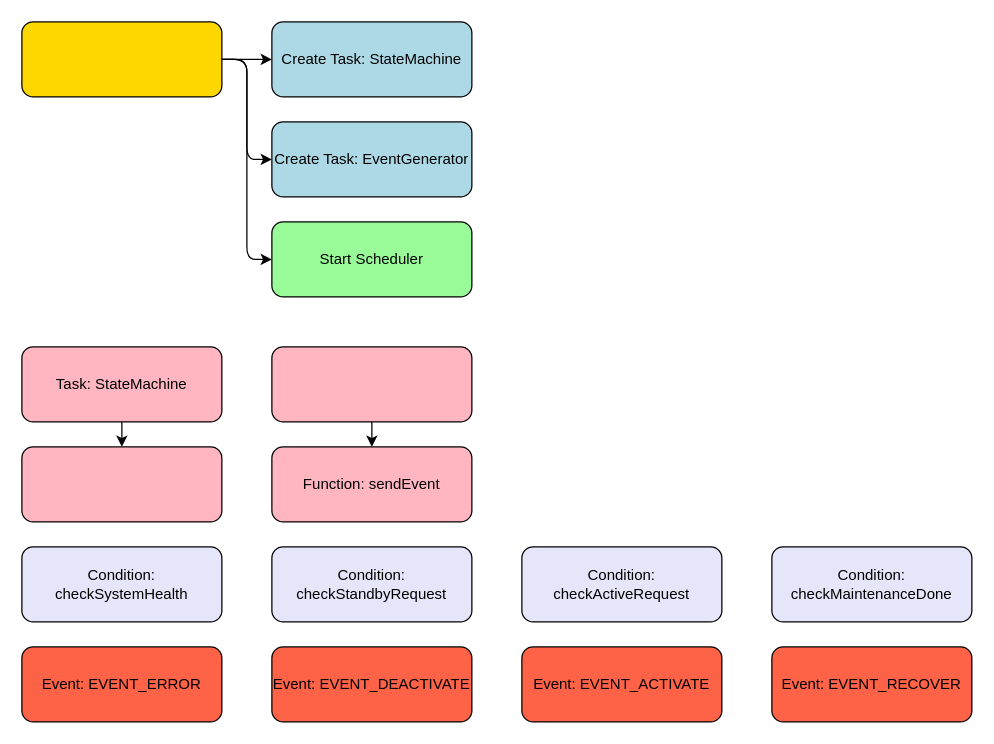
Some shapes in this 994 by 744 pixel diagram are drawn without their labels. Here are the shapes that lost their labels. From the top down, the centre of each, then its label:
At pixel 121 59: "main: Initialize System".
At pixel 371 384: "Task: EventGenerator".
At pixel 121 484: "Function: handleState".
